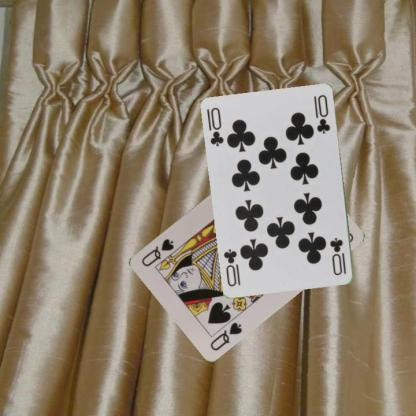10c: (327, 235, 348, 277), (208, 105, 225, 148)
Qs: (207, 319, 244, 352)
